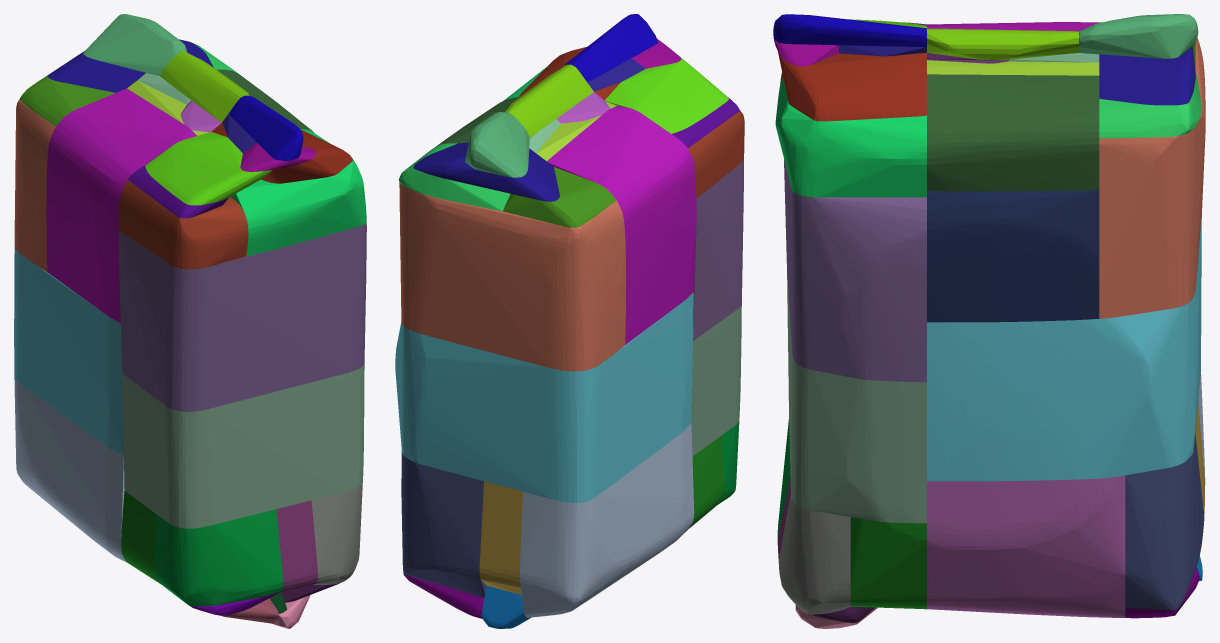
File: coacd_collision.obj
3 renders of one model, left to right at view 1: azimuth 30°, elevation 25°; view 2: azimuth 150°, elevation 25°; view 3: azimuth 270°, elevation 25°, orthographic. The views are drawn at different scales.
Parts seen in each view (by area): view 1: geometry_1, geometry_0, geometry_22, geometry_2, geometry_6, geometry_33, geometry_23, geometry_31, geometry_17, geometry_9, geometry_35, geometry_3 (+17 smaller); view 2: geometry_2, geometry_9, geometry_6, geometry_22, geometry_16, geometry_1, geometry_0, geometry_17, geometry_37, geometry_20, geometry_30, geometry_3 (+15 smaller); view 3: geometry_2, geometry_7, geometry_1, geometry_21, geometry_19, geometry_0, geometry_9, geometry_23, geometry_16, geometry_15, geometry_35, geometry_8 (+11 smaller).
Boxes of the visible parts, x1,y1,x2,y2 form: geometry_1: [119, 222, 366, 411]; geometry_0: [122, 363, 364, 528]; geometry_22: [46, 88, 197, 323]; geometry_2: [14, 247, 123, 455]; geometry_6: [14, 377, 126, 562]; geometry_33: [155, 509, 283, 606]; geometry_23: [230, 128, 366, 256]; geometry_31: [119, 180, 248, 269]; geometry_17: [145, 131, 271, 205]; geometry_9: [14, 99, 55, 271]; geometry_35: [311, 481, 362, 584]; geometry_3: [83, 14, 187, 76]; geometry_2: [395, 292, 693, 502]; geometry_9: [399, 182, 625, 371]; geometry_6: [520, 423, 694, 617]; geometry_22: [547, 105, 696, 344]; geometry_16: [401, 451, 486, 597]; geometry_1: [693, 159, 743, 340]; geometry_0: [691, 304, 741, 455]; geometry_17: [605, 58, 728, 133]; geometry_37: [479, 481, 522, 594]; geometry_20: [413, 142, 559, 201]; geometry_30: [503, 167, 616, 227]; geometry_3: [464, 112, 529, 177]; geometry_2: [927, 215, 1201, 481]; geometry_7: [927, 475, 1125, 617]; geometry_1: [784, 159, 926, 382]; geometry_21: [927, 190, 1099, 322]; geometry_19: [927, 74, 1099, 191]; geometry_0: [787, 273, 926, 523]; geometry_9: [1099, 38, 1205, 318]; geometry_23: [775, 77, 926, 197]; geometry_16: [1125, 434, 1204, 610]; geometry_15: [778, 52, 926, 121]; geometry_35: [778, 494, 850, 614]; geometry_8: [850, 517, 926, 609].
Bounding box in the file's own units: 64.46 × 141 × 90.83.
